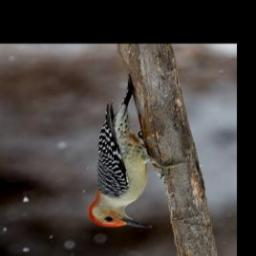Woodpecker: (89, 76, 189, 229)
